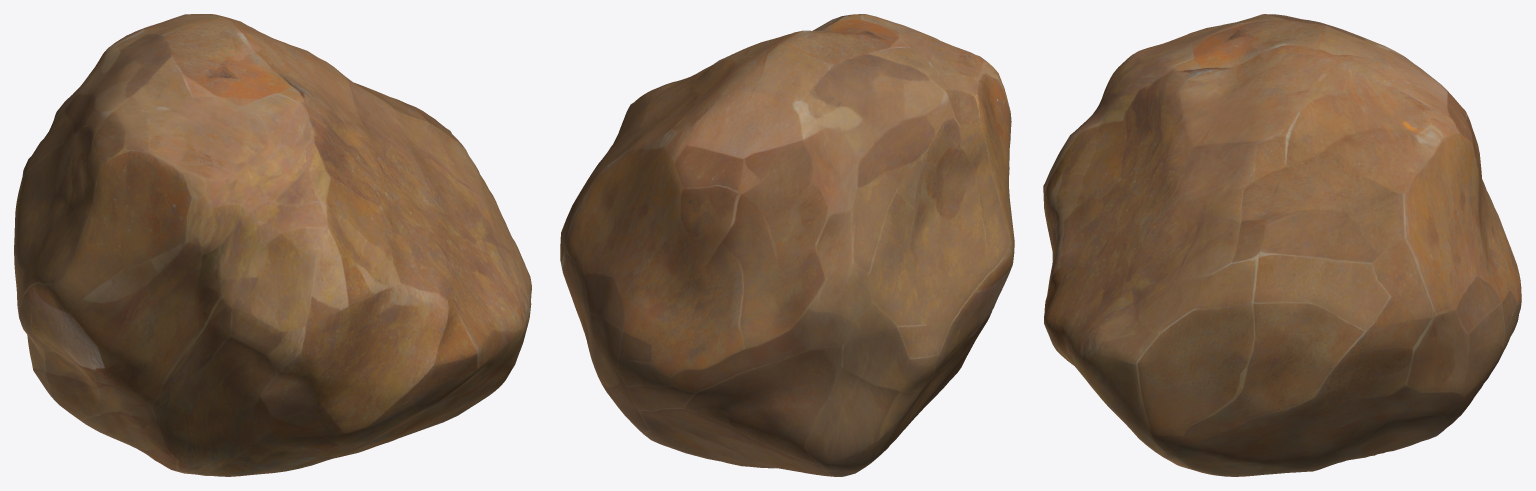
File: Meshy_AI_Rock_Item_0224030036_texture.glb
3 renders of one model, left to right at view 1: azimuth 30°, elevation 25°; view 2: azimuth 150°, elevation 25°; view 3: azimuth 270°, elevation 25°, orthographic. The views are drawn at different scales.
Size of the model in its own units: 1.85 by 1.82 by 1.99.
1 material, 1 textured.
